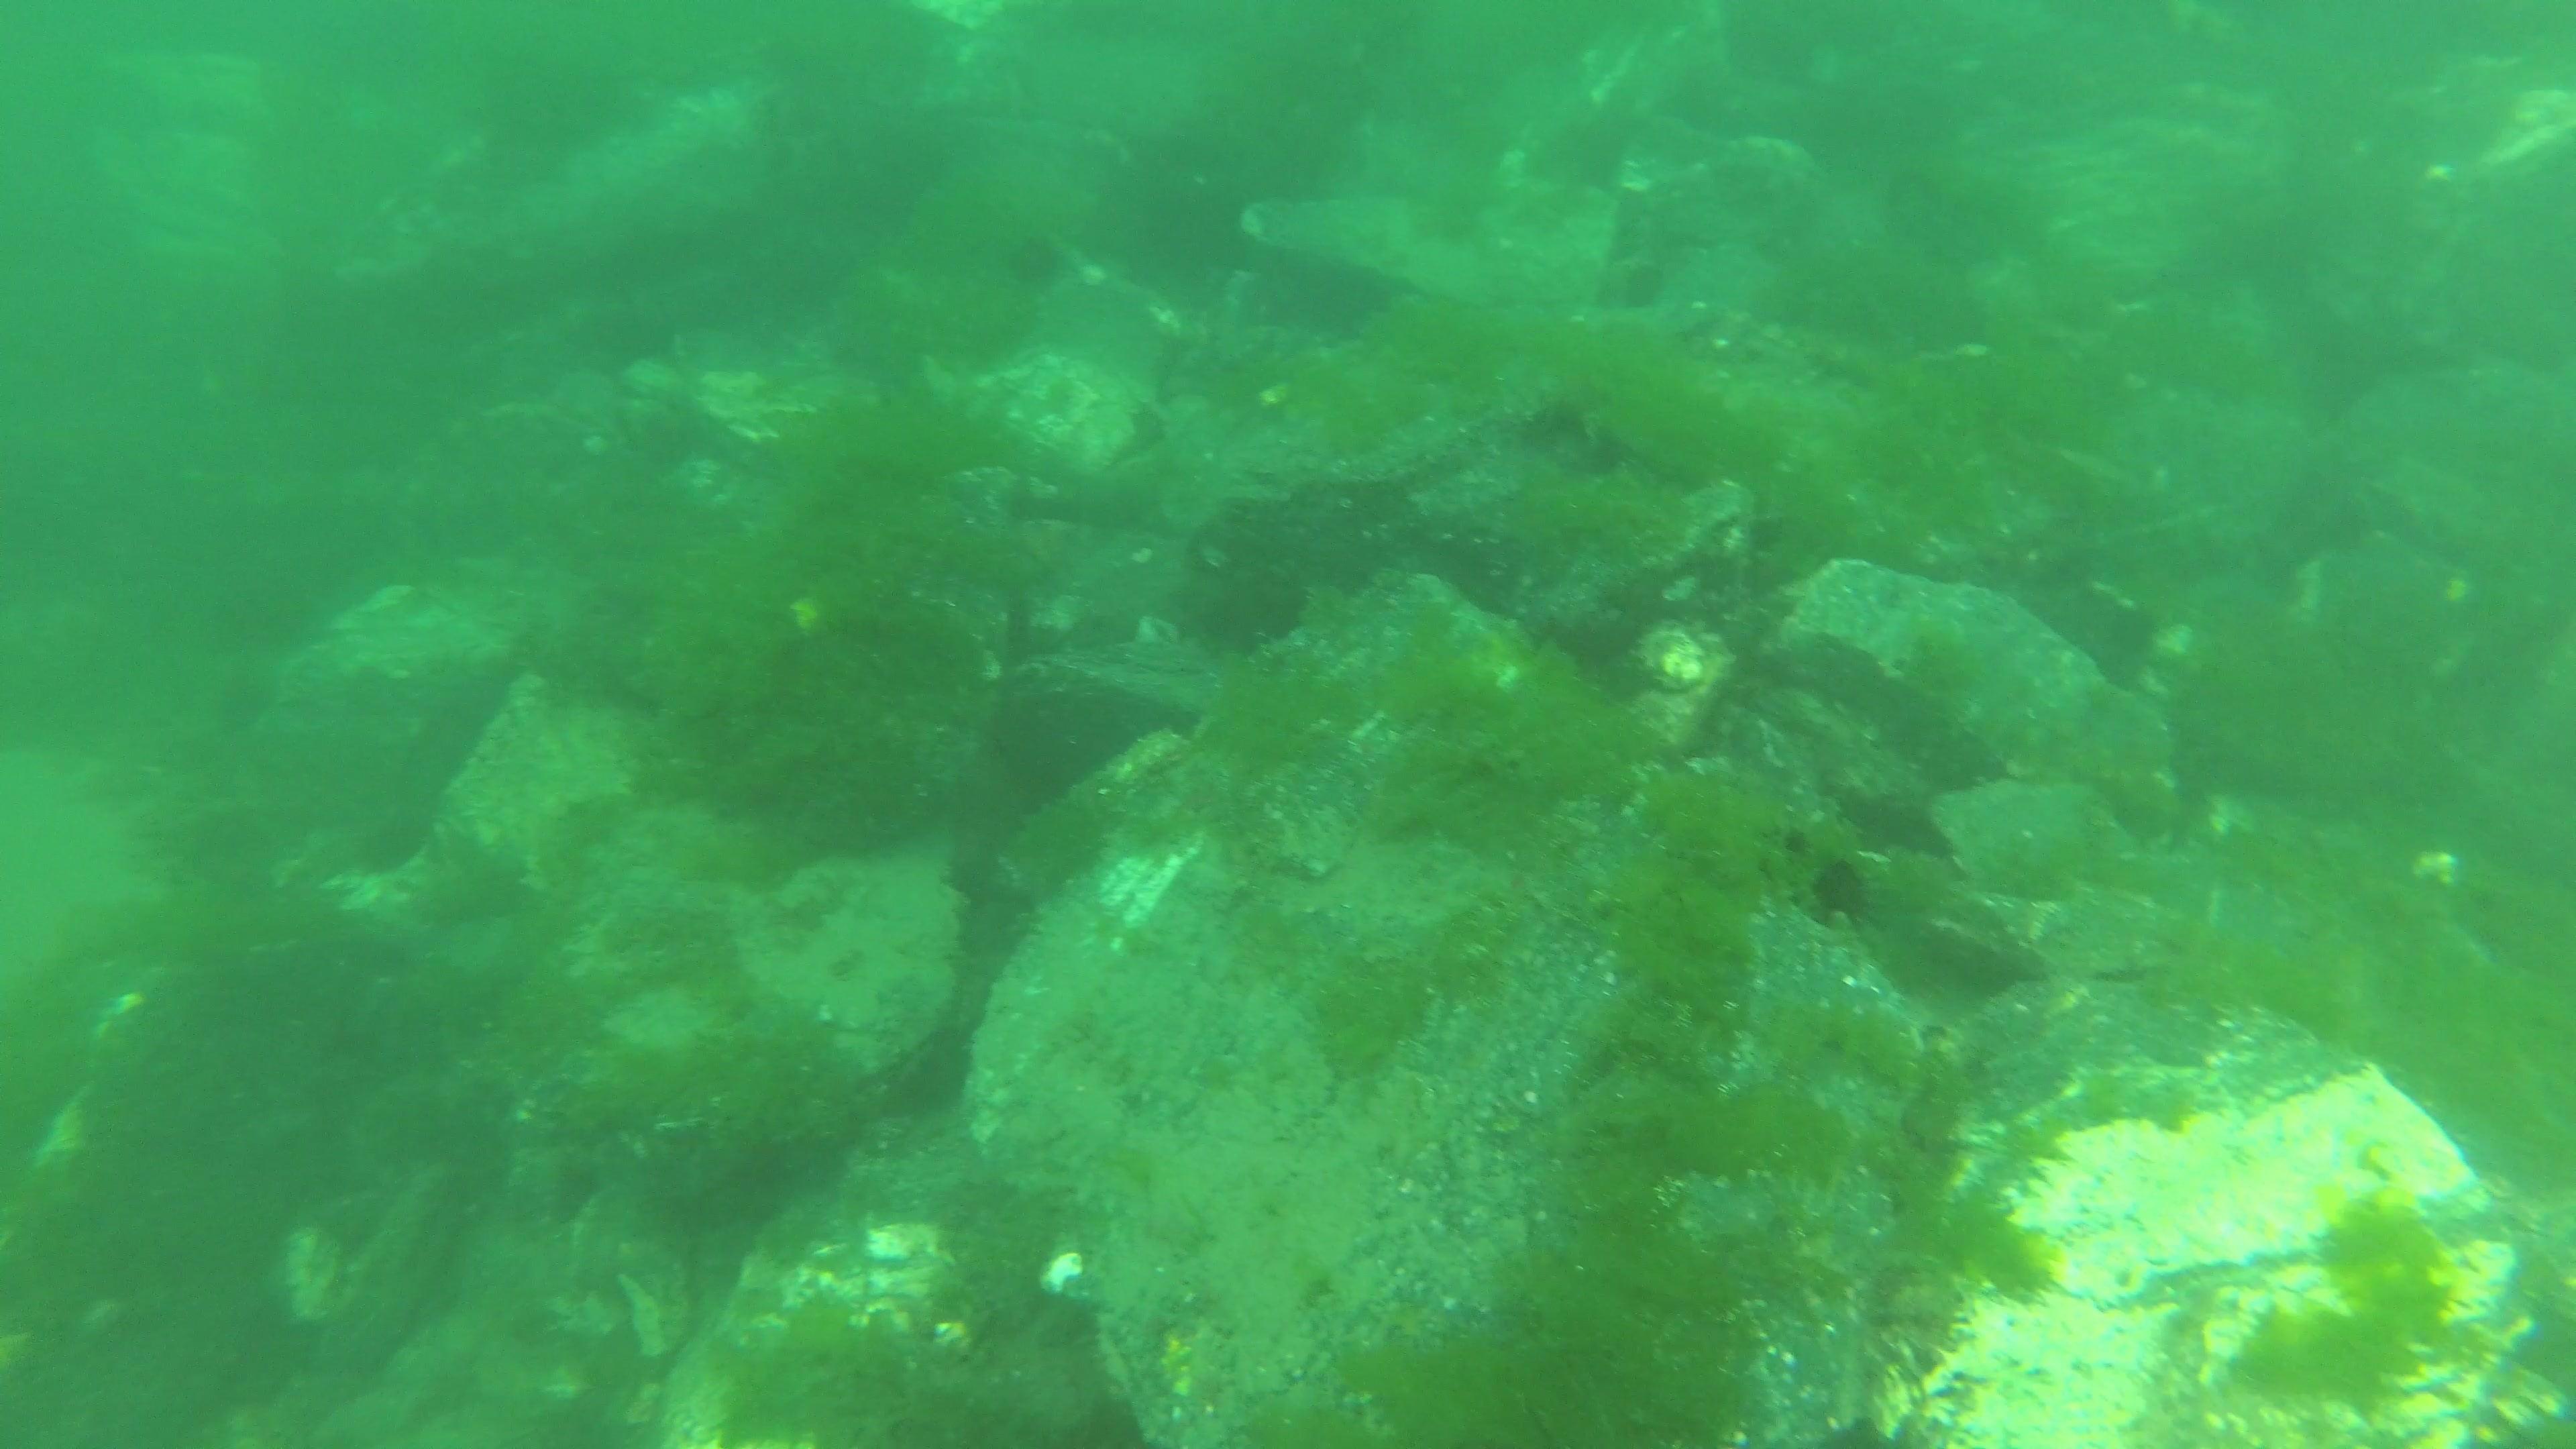echinus: (1808, 856, 1884, 931)
